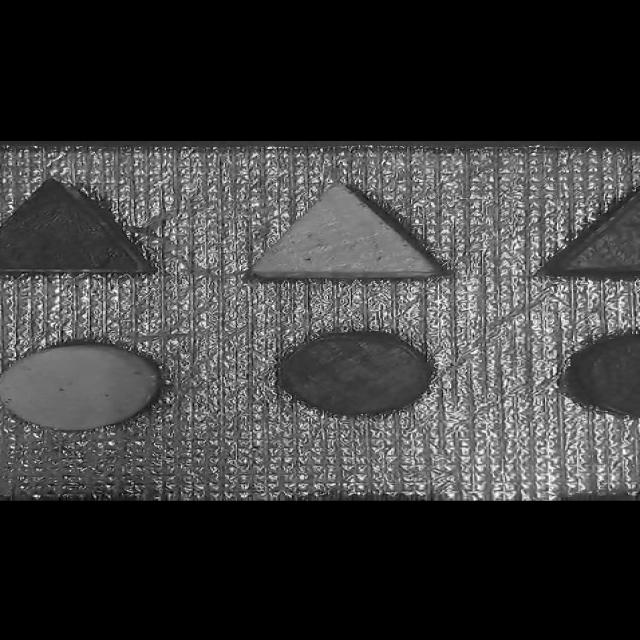bcircle: (542, 329, 640, 436)
btriangle: (5, 176, 184, 296)
rcircle: (261, 321, 457, 426)
rtriangle: (524, 168, 640, 286)
ycircle: (5, 328, 169, 446)
ytriangle: (236, 167, 446, 288)
